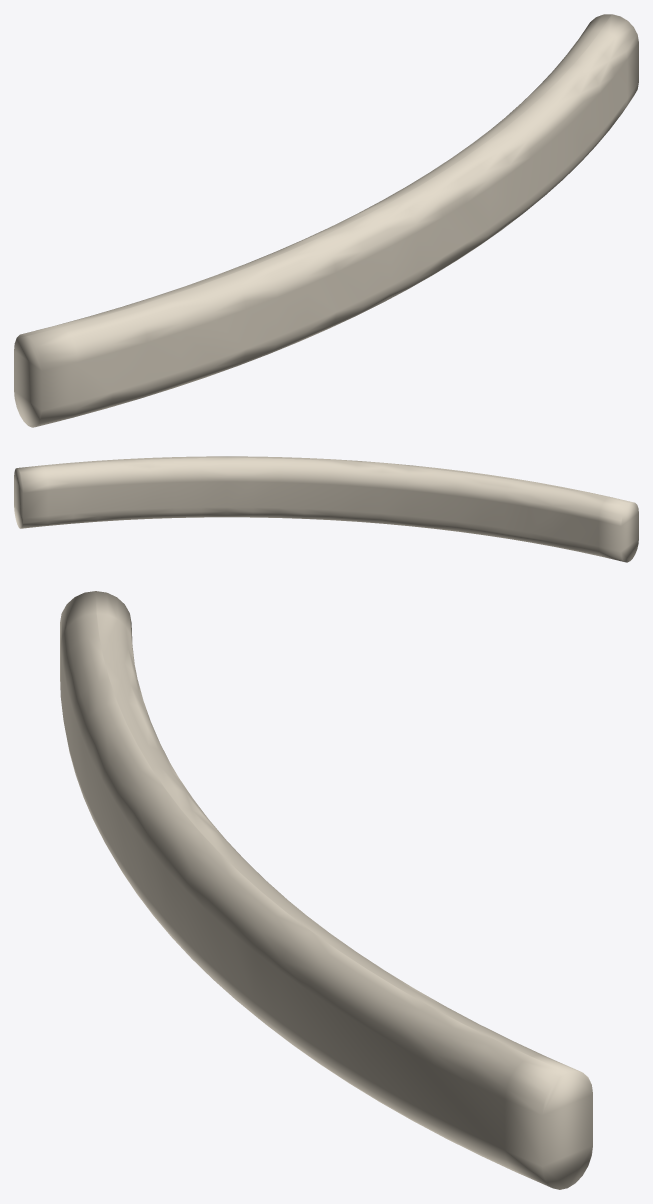
The model's file is ArcBand_R2_A45.glb.
The picture shows the model from 3 angles, top to bottom: view 1: azimuth 30°, elevation 25°; view 2: azimuth 150°, elevation 25°; view 3: azimuth 270°, elevation 25°; orthographic projection. The views are drawn at different scales.
Parts seen in each view (by area): view 1: PBK_Band.006; view 2: PBK_Band.006; view 3: PBK_Band.006.
Boxes of the visible parts, bbox=[...] form: PBK_Band.006: bbox=[14, 14, 638, 427]; PBK_Band.006: bbox=[14, 456, 638, 562]; PBK_Band.006: bbox=[60, 591, 592, 1189].
Size of the model in its own units: 1.46 by 0.16 by 0.6685.
